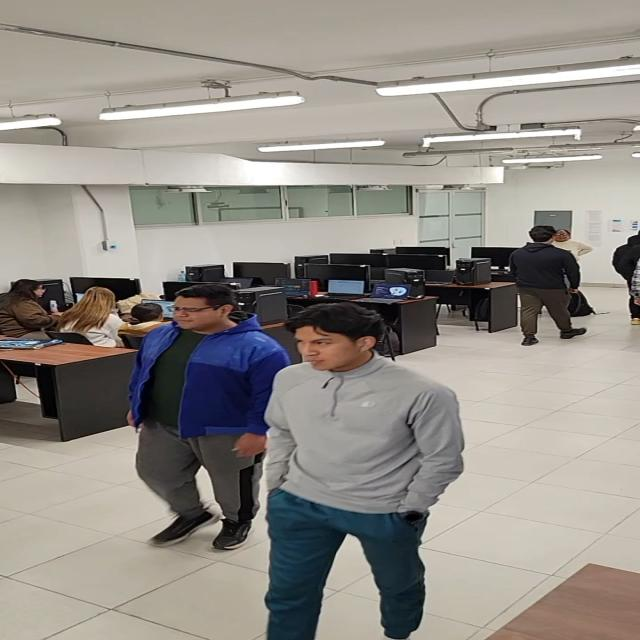Persona: (260, 300, 467, 640), (127, 283, 291, 553), (506, 225, 592, 346)
